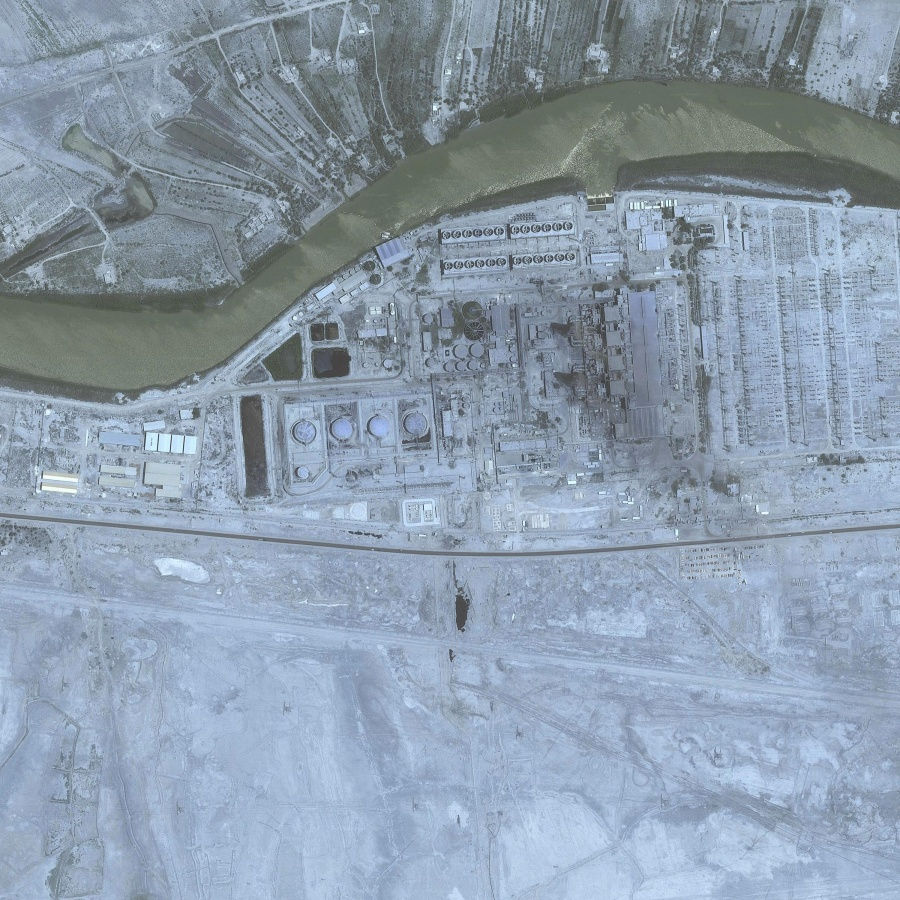PowerPlant: (217, 215, 717, 514)
